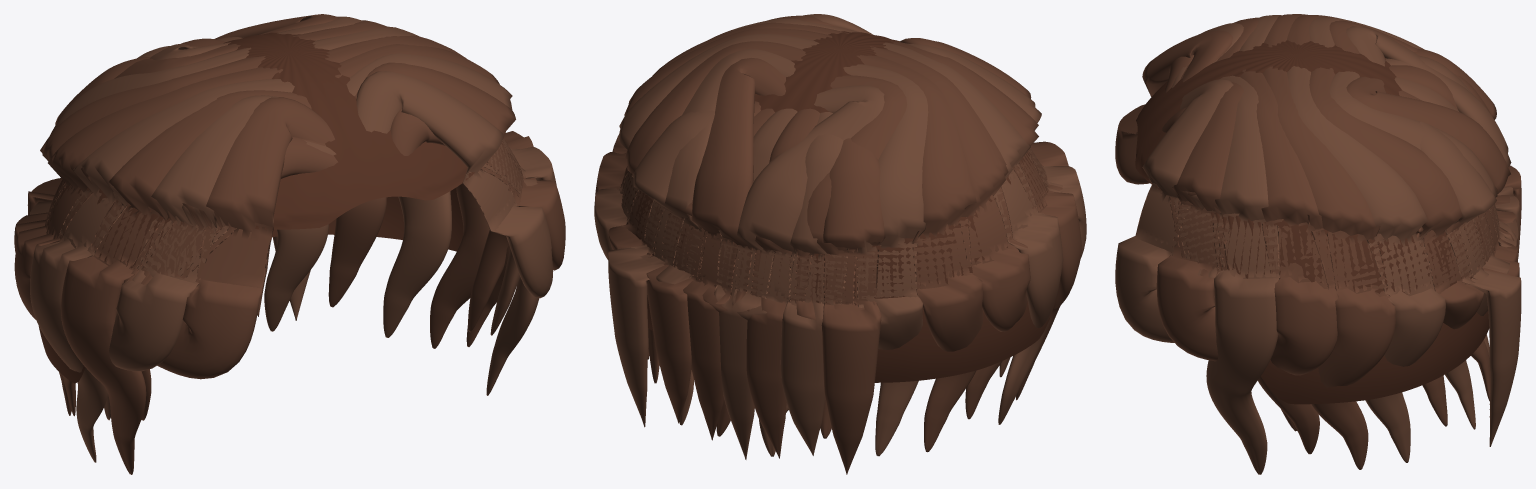
Rendered from Masculine-flow-headband251-hair.glb.
3 renders of one model, left to right at view 1: azimuth 30°, elevation 25°; view 2: azimuth 150°, elevation 25°; view 3: azimuth 270°, elevation 25°, orthographic. The views are drawn at different scales.
Visible parts, largest first — view 1: 226 hair / Hair / main251.001, 226 hair / Hair / accent251.001, 226 hair / Hair / recessed roots251.001; view 2: 226 hair / Hair / main251.001, 226 hair / Hair / accent251.001, 226 hair / Hair / recessed roots251.001; view 3: 226 hair / Hair / main251.001, 226 hair / Hair / accent251.001, 226 hair / Hair / recessed roots251.001.
Boxes of the visible parts, x1,y1,x2,y2 form: 226 hair / Hair / main251.001: [14, 14, 565, 474]; 226 hair / Hair / accent251.001: [30, 16, 556, 462]; 226 hair / Hair / recessed roots251.001: [38, 32, 522, 383]; 226 hair / Hair / main251.001: [595, 15, 1081, 474]; 226 hair / Hair / accent251.001: [594, 14, 1086, 459]; 226 hair / Hair / recessed roots251.001: [622, 31, 1054, 382]; 226 hair / Hair / main251.001: [1115, 14, 1521, 469]; 226 hair / Hair / accent251.001: [1115, 15, 1521, 474]; 226 hair / Hair / recessed roots251.001: [1135, 40, 1489, 404].
Size of the model in its own units: 1.11 by 0.832 by 0.8722.
